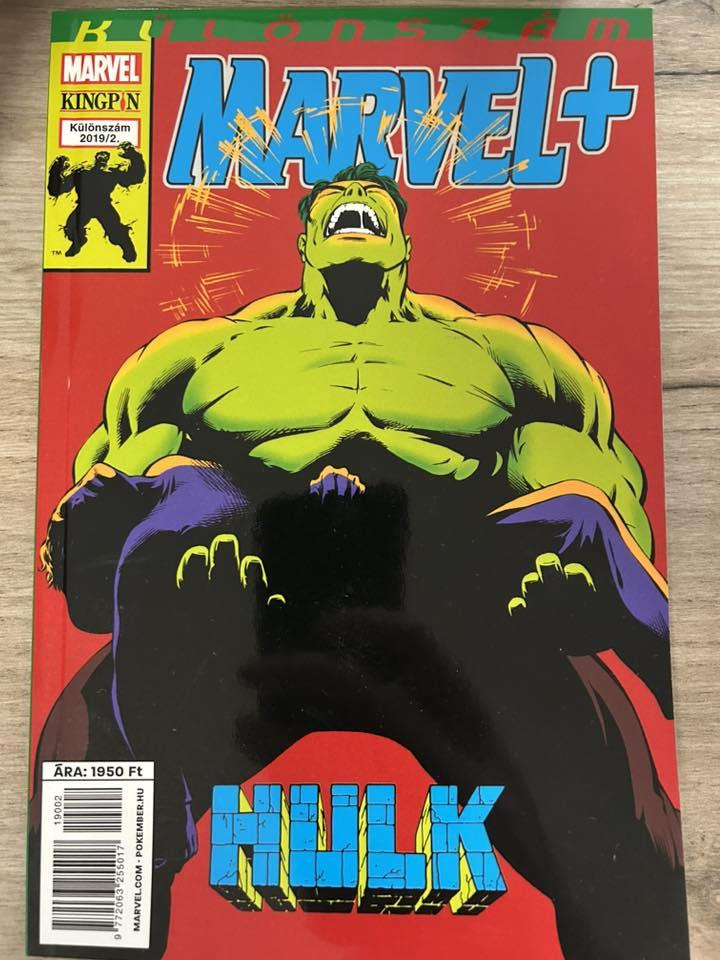comic: (29, 6, 687, 959)
